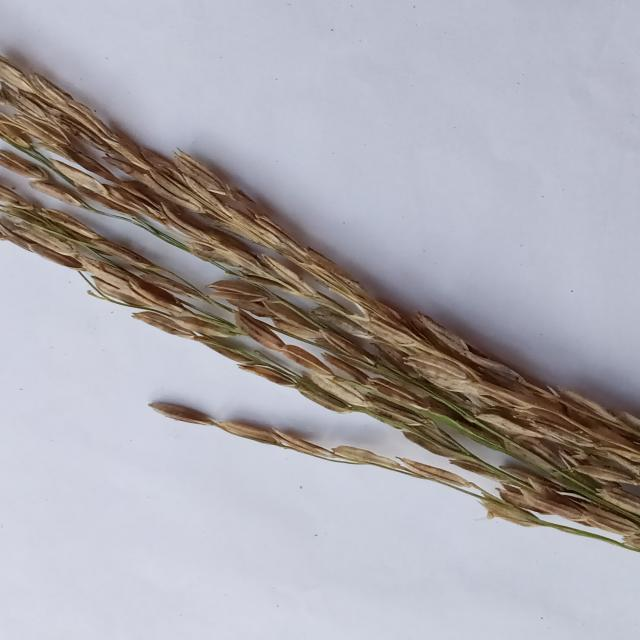Neck_Blast: (0, 38, 640, 552)
